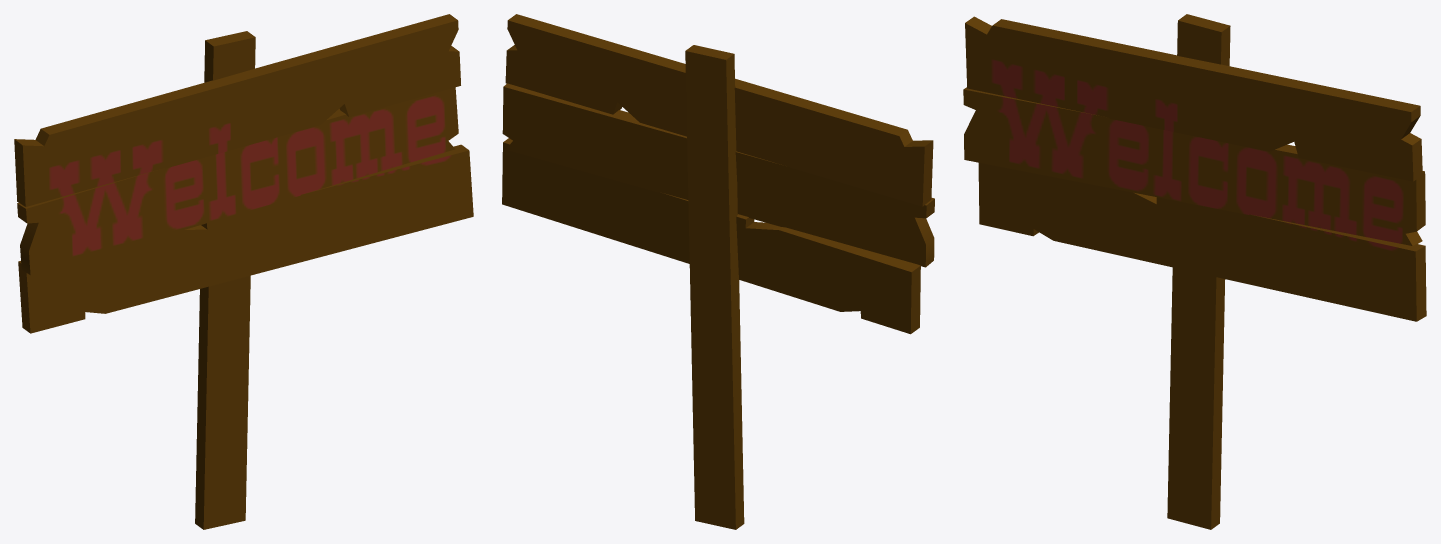
File: Welcome_Sign_Final.fbx
3 views of the same model, side by side, from view 1: azimuth 30°, elevation 25°; view 2: azimuth 150°, elevation 25°; view 3: azimuth 330°, elevation 25° (orthographic). The views are drawn at different scales.
Parts seen in each view (by area): view 1: Welcome_Sign_Final; view 2: Welcome_Sign_Final; view 3: Welcome_Sign_Final.
Boxes of the visible parts, x1=… form: Welcome_Sign_Final: x1=14, y1=14, x2=473, y2=529; Welcome_Sign_Final: x1=502, y1=14, x2=934, y2=529; Welcome_Sign_Final: x1=963, y1=14, x2=1426, y2=529.
Size of the model in its own units: 0.9194 by 0.955 by 0.0855.
